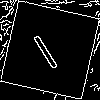I: (25, 25, 61, 71)
